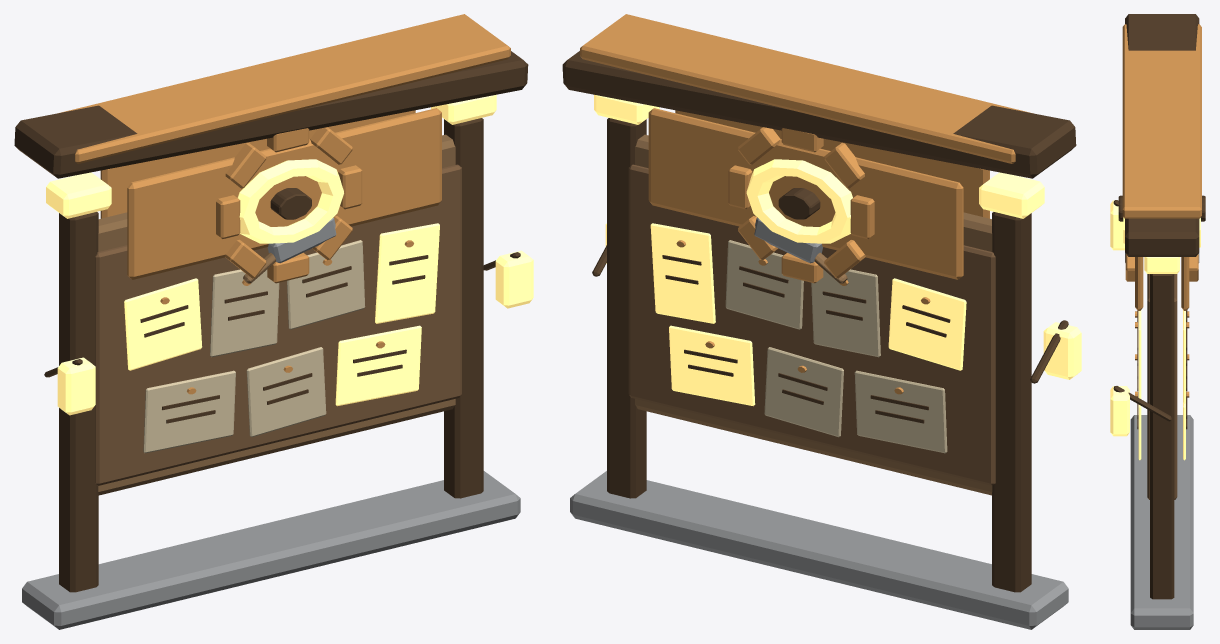
The model's file is request_board_industrial.glb.
3 renders of one model, left to right at view 1: azimuth 30°, elevation 25°; view 2: azimuth 150°, elevation 25°; view 3: azimuth 270°, elevation 25°, orthographic. The views are drawn at different scales.
Size of the model in its own units: 6.6 by 6.43 by 1.32.
